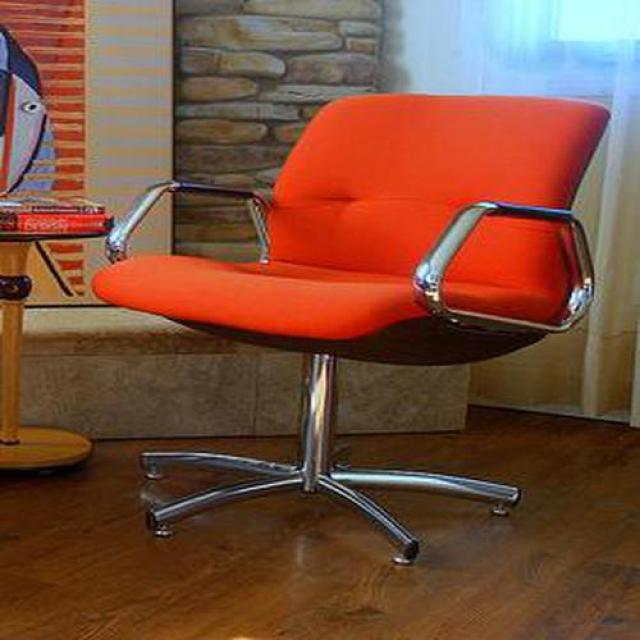swivelchair: (91, 95, 612, 567)
